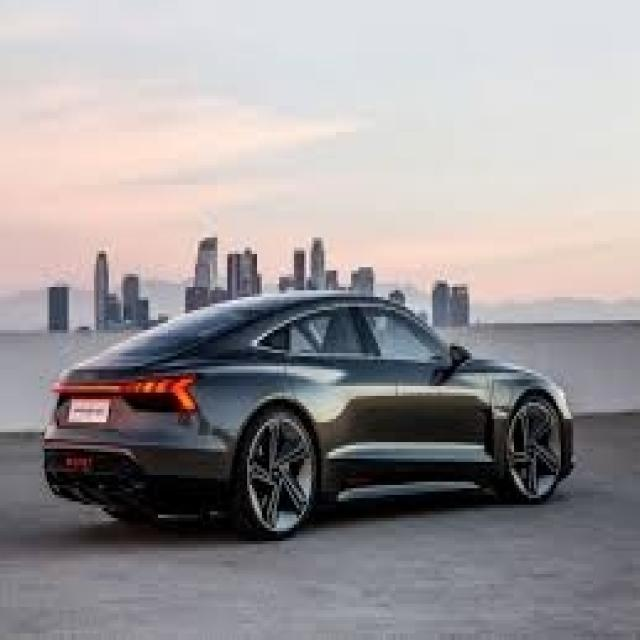black: (33, 267, 576, 539)
